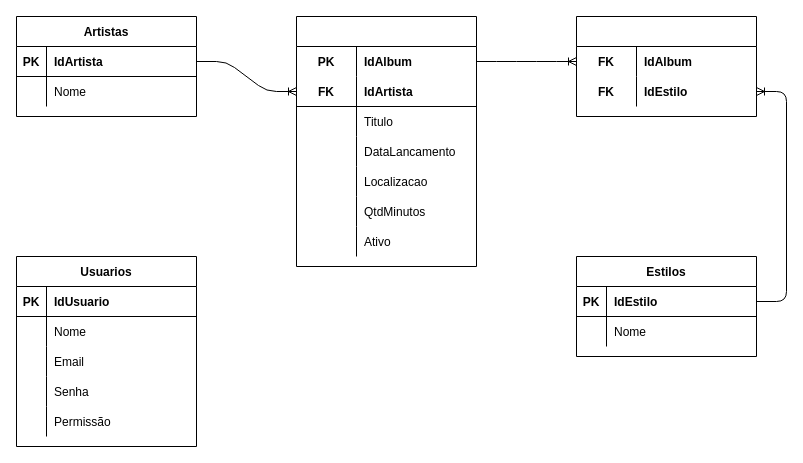
Some shapes in this 803 by 463 pixel diagram are drawn without their labels. The box of each missing label's shape, as (x1, y1, x2, y2) in pixels:
Albuns: (296, 16, 476, 266)
AlbunsEstilos: (576, 16, 756, 116)
